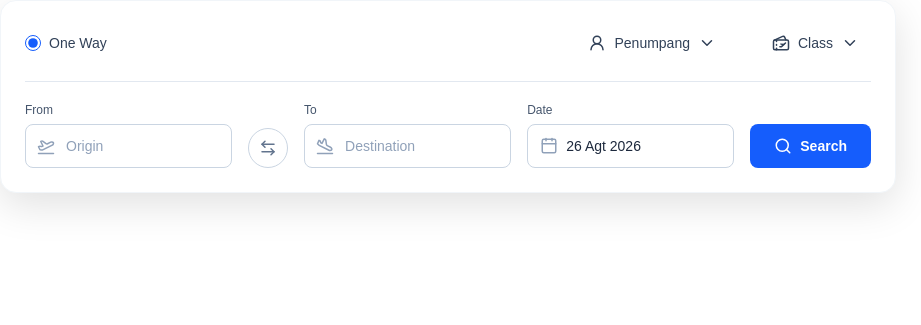
InputFlight (flight) › increments the children and infant passenger counts
Step 1. Click the button "Penumpang" → (652, 43), box [576, 25, 728, 61]
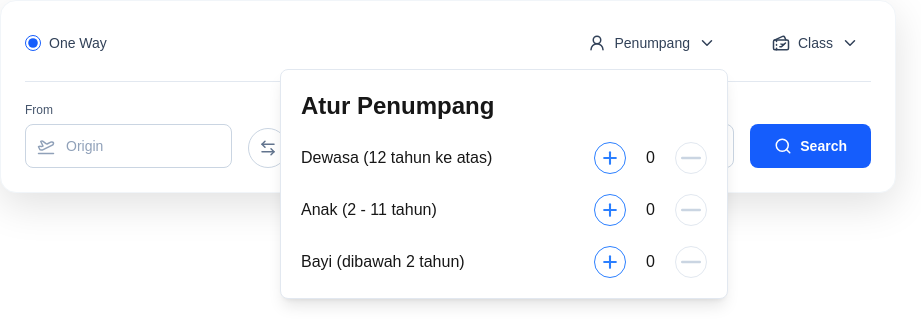
Step 2. Click the 4th button → (610, 210), box [594, 194, 626, 226]
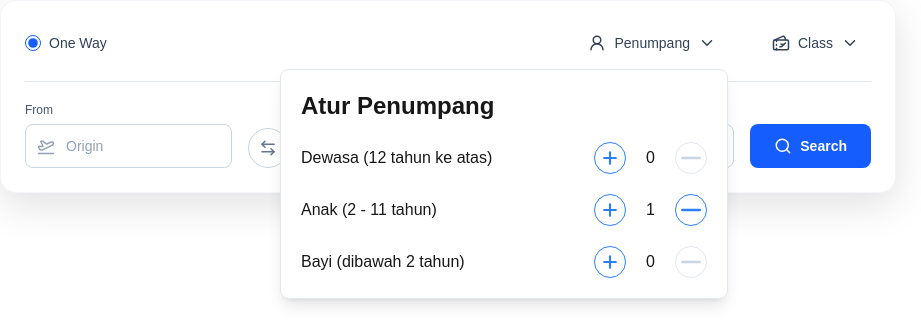
Now the text "1" is shown, box [646, 198, 655, 222]
Step 3. Click the 6th button → (610, 262), box [594, 246, 626, 278]
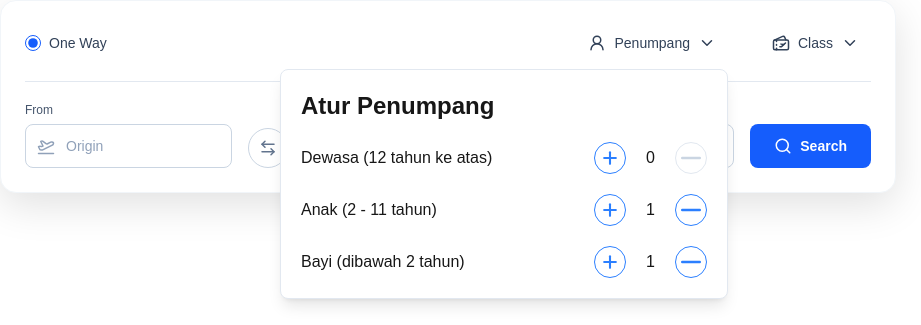
Now the text "1" in the row of "Bayi (dibawah 2 tahun)" is shown, box [646, 253, 655, 270]
